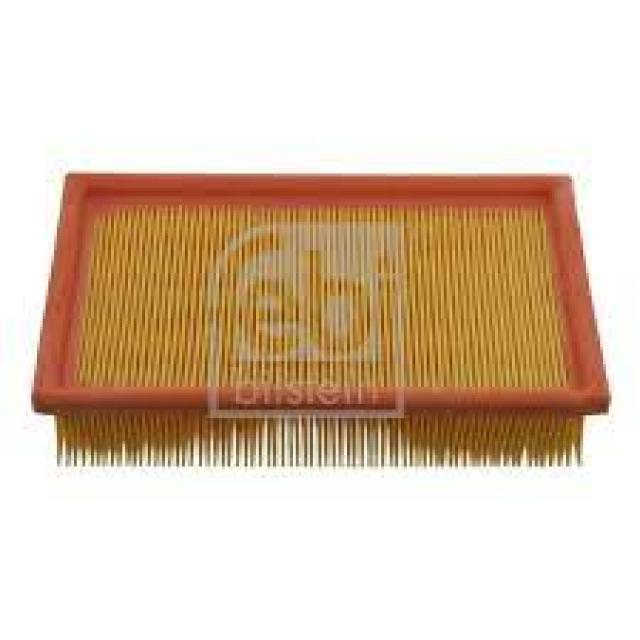air_filter: (29, 158, 616, 473)
